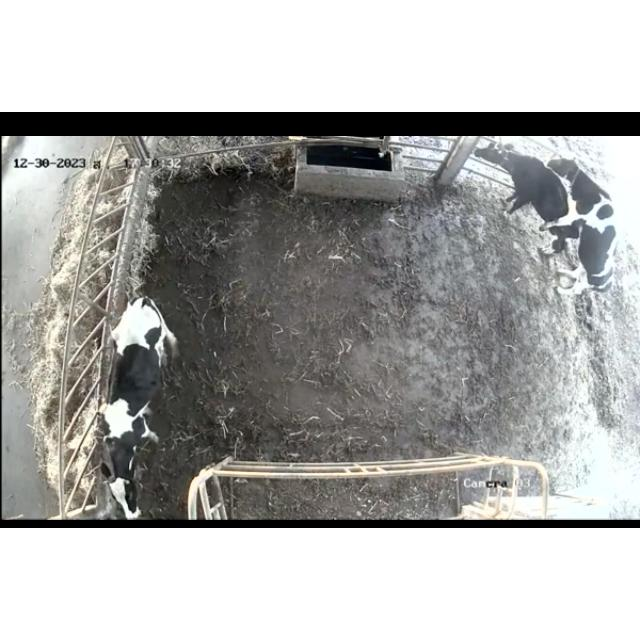ride: (540, 146, 622, 304)
stand: (78, 282, 185, 520), (472, 140, 576, 258)
